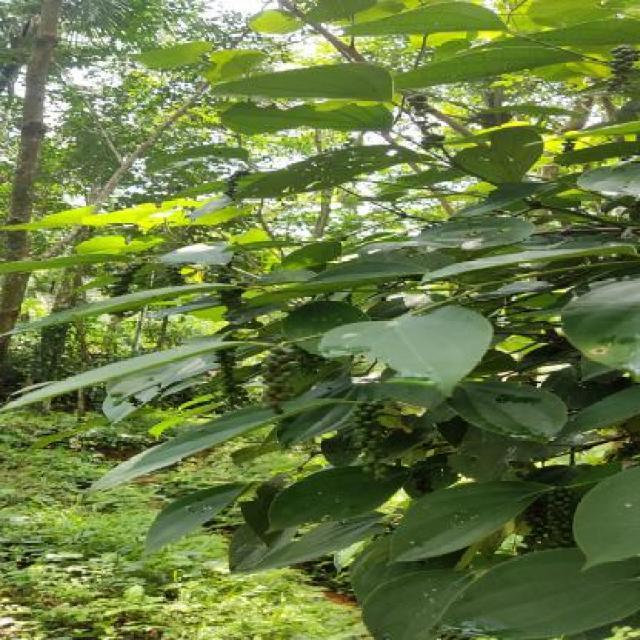UNRIPE: (214, 265, 248, 404), (518, 488, 576, 550), (259, 344, 310, 411), (348, 402, 388, 476), (106, 259, 142, 316), (602, 46, 639, 91), (407, 97, 441, 141), (606, 438, 640, 459), (222, 169, 245, 197), (159, 263, 186, 286), (408, 469, 435, 489)
